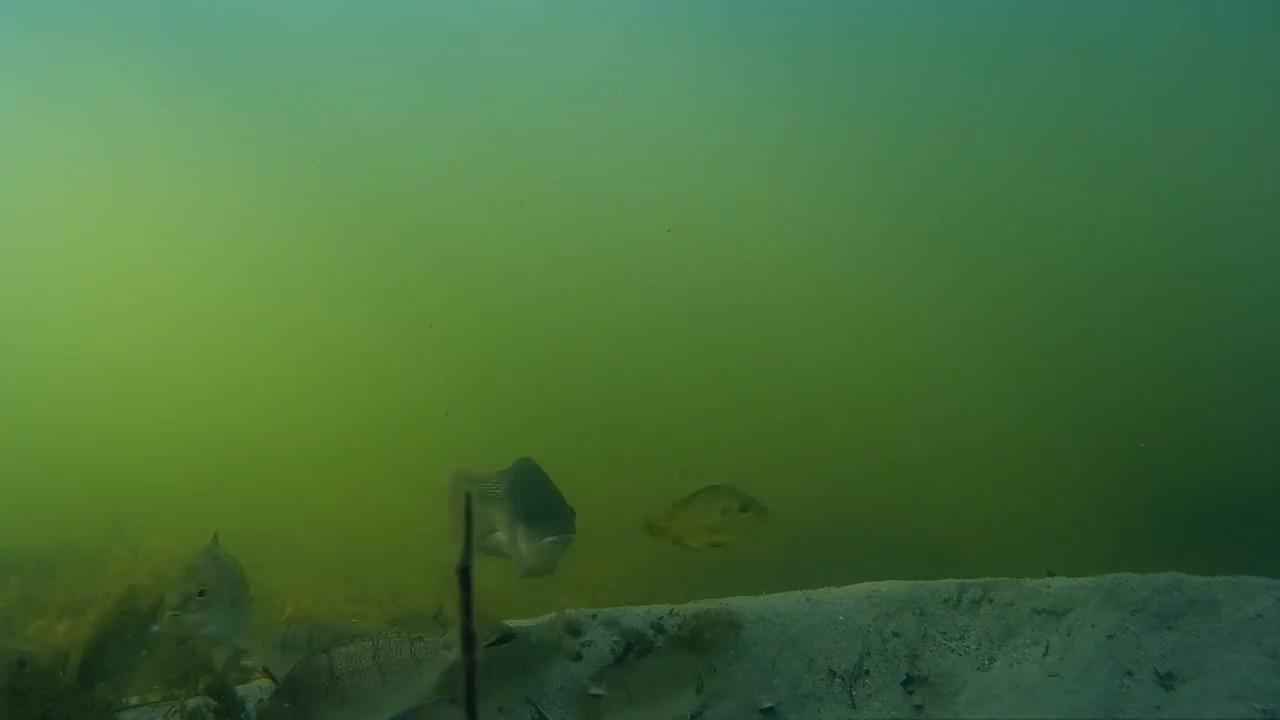Tilapia: (37, 527, 277, 720), (258, 624, 487, 720), (460, 459, 593, 590), (583, 620, 728, 720), (636, 481, 782, 558)
